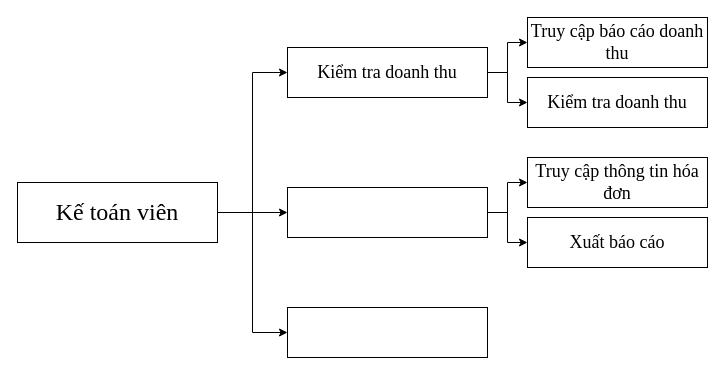
The diagram is 725 pixels wide and 375 high, and some of its shapes have lost their labels. Each missing label, with the centre of its shape:
"Kiểm tra hóa đơn" goes at (387,212).
"Tạo báo cáo" goes at (387,332).
